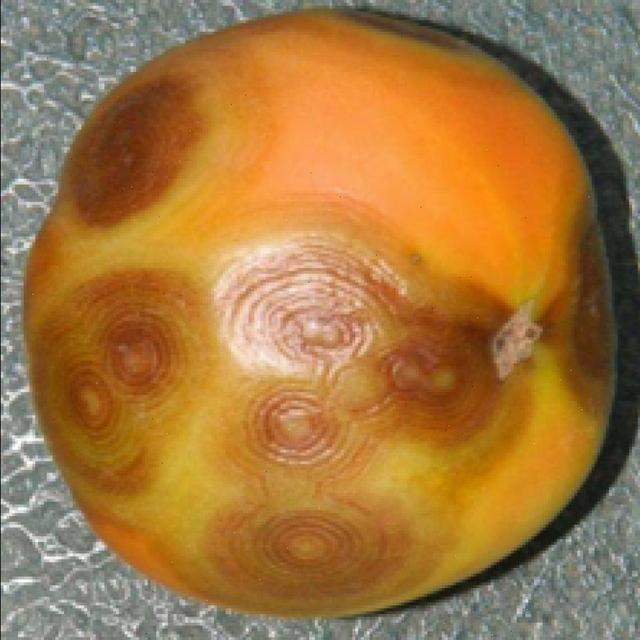Spotted wilt Virus Fruit: (12, 5, 412, 411)
